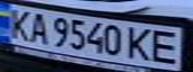0: (103, 21, 127, 57)
4: (84, 20, 106, 54)
5: (66, 17, 87, 52)
9: (45, 15, 72, 48)
A: (24, 10, 51, 44)
E: (148, 27, 187, 65)
K: (124, 25, 157, 61), (3, 7, 33, 42)
